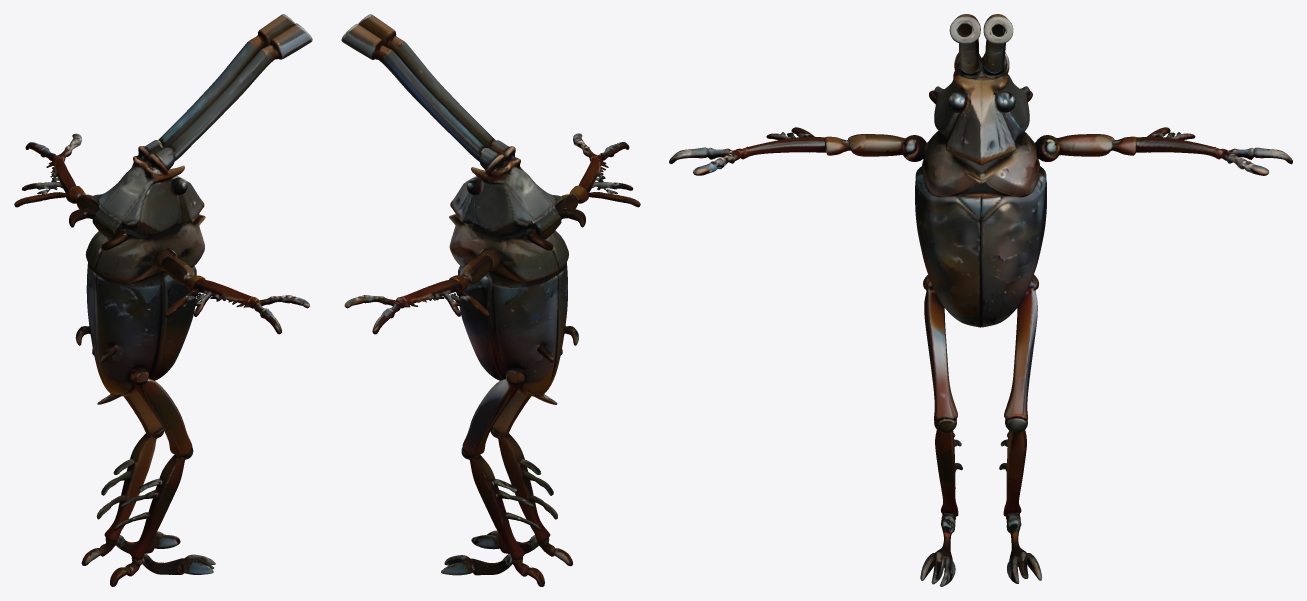
File: tripo_convert_020a28dc-dcab-4fcd-a8f1-af915785baeb.fbx
3 views of the same model, side by side, from view 1: azimuth 30°, elevation 25°; view 2: azimuth 150°, elevation 25°; view 3: azimuth 270°, elevation 25° (orthographic). The views are drawn at different scales.
Parts seen in each view (by area): view 1: tripo_node_020a28dc; view 2: tripo_node_020a28dc; view 3: tripo_node_020a28dc.
Boxes of the visible parts, x1,y1,x2,y2 form: tripo_node_020a28dc: [14, 14, 312, 586]; tripo_node_020a28dc: [341, 14, 640, 586]; tripo_node_020a28dc: [669, 14, 1292, 586].
Size of the model in its own units: 0.4441 by 0.9998 by 0.9008.
Materials: 1 (1 with a texture image).
